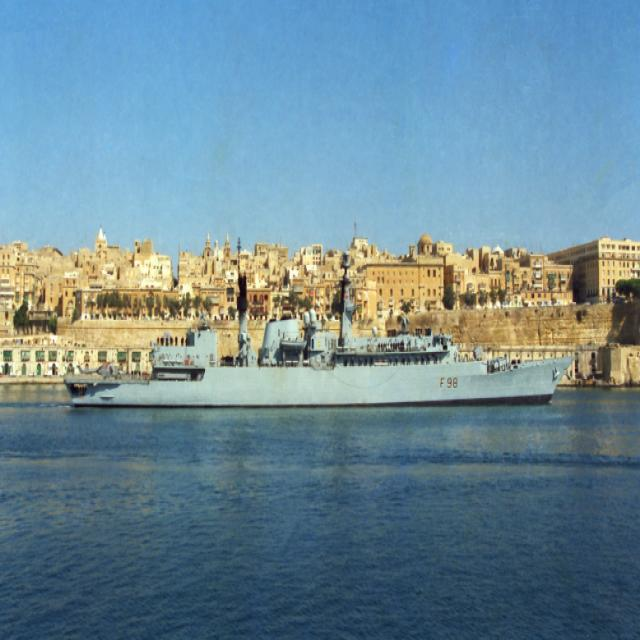Fragata: (63, 272, 579, 412)
